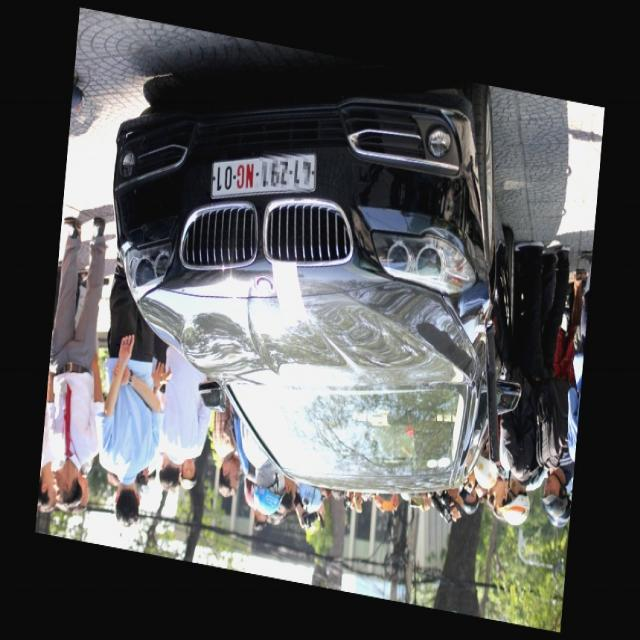bien_ngoai_giao: (210, 153, 316, 197)
